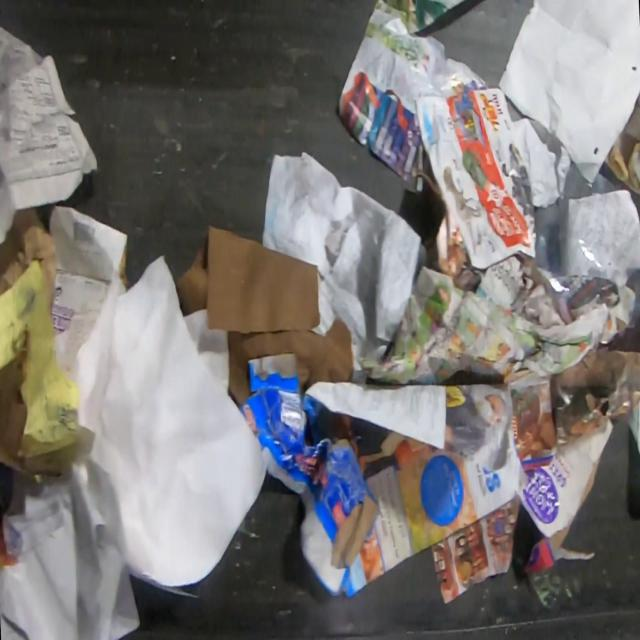cardboard: (242, 353, 408, 600), (517, 417, 615, 577), (48, 204, 130, 375), (0, 337, 68, 478), (0, 206, 58, 312), (366, 0, 468, 38), (604, 90, 640, 196)
soft_plastic: (509, 117, 626, 326)
